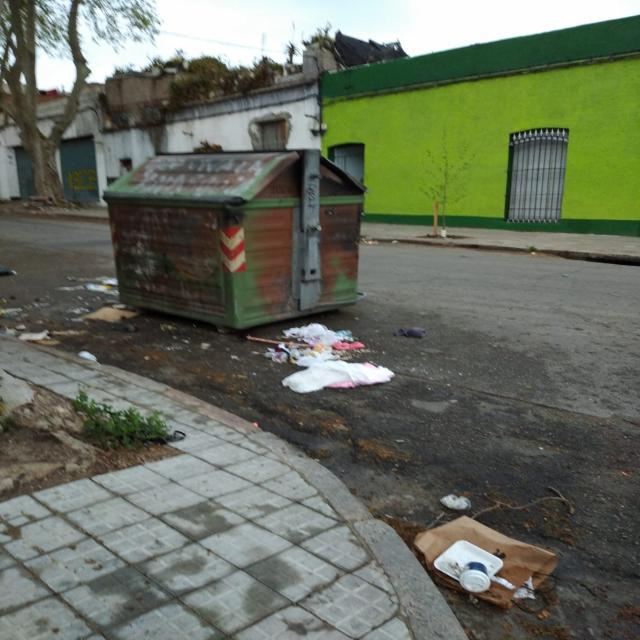garbage: (383, 454, 594, 628), (246, 293, 419, 422), (3, 256, 164, 384)
